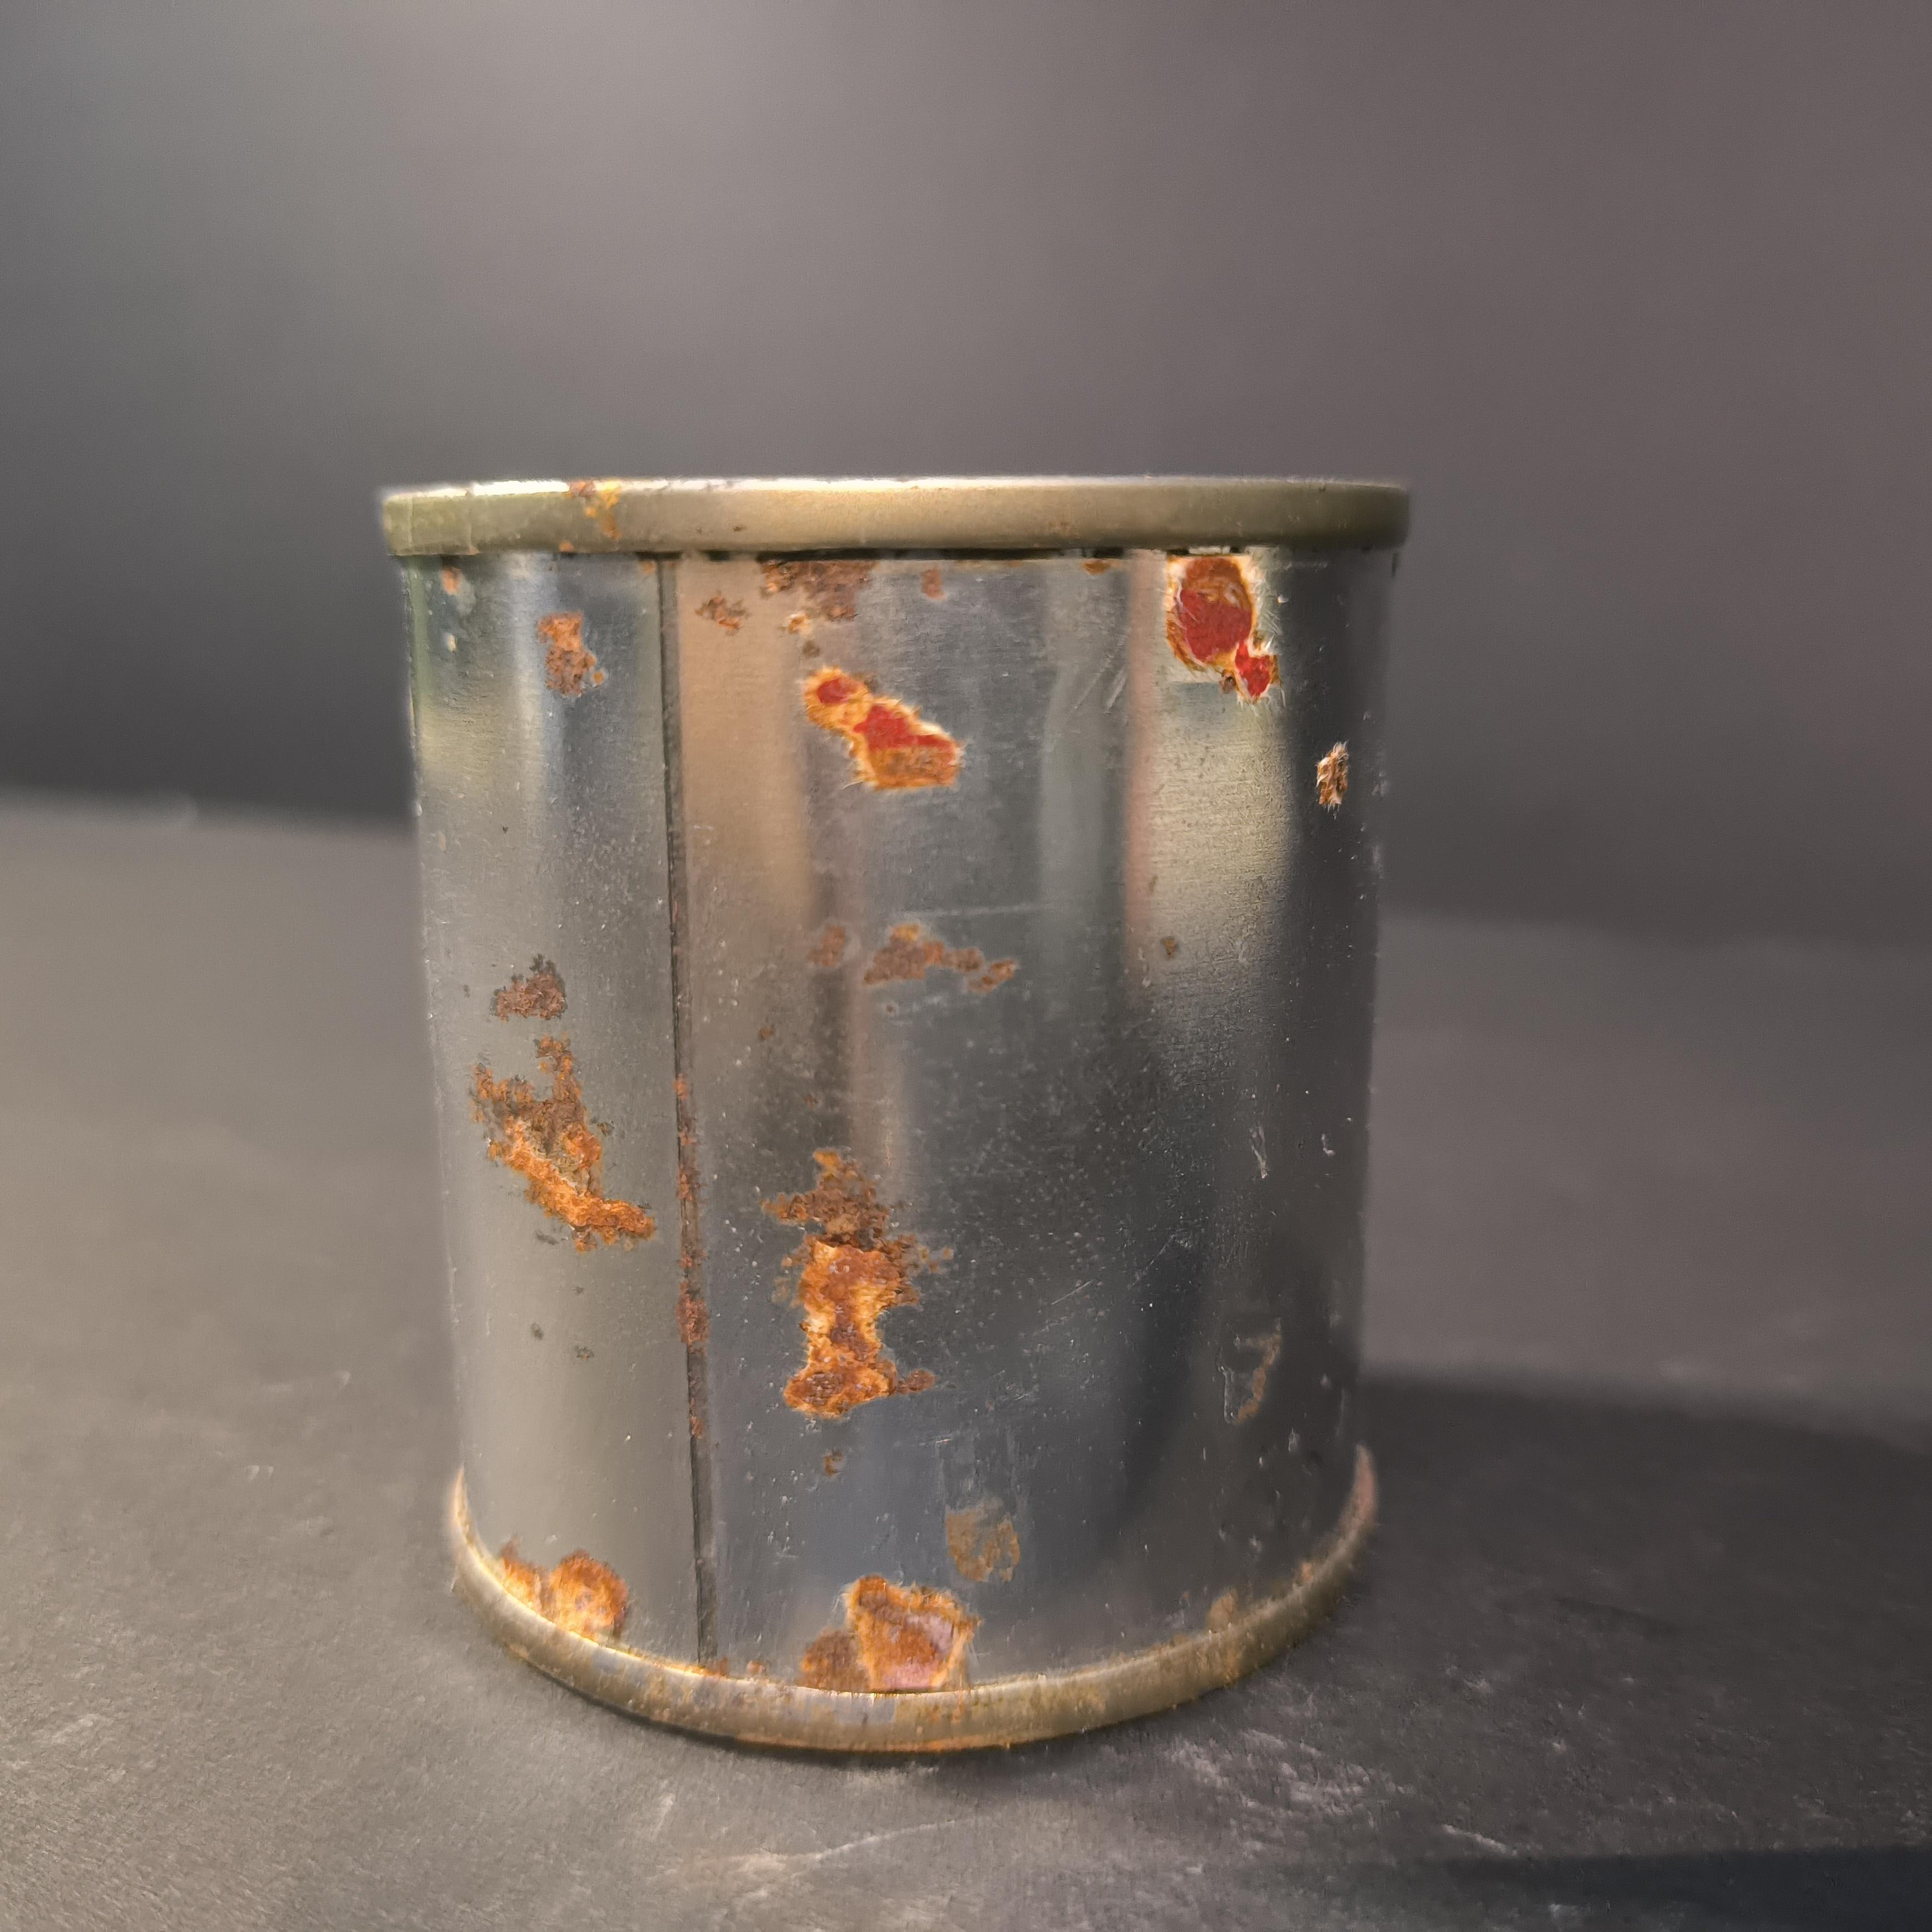Rusted: (336, 419, 1444, 1775)
